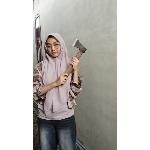Kapak: (64, 33, 90, 77)
